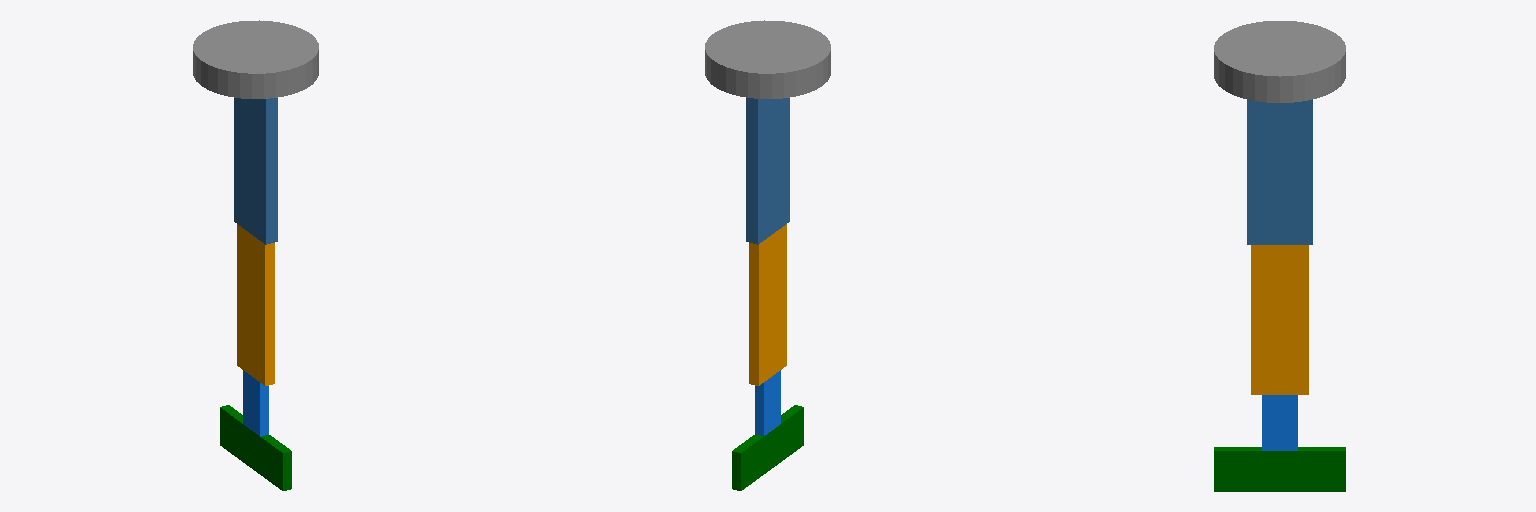
robot.urdf — quadruped_leg:
<?xml version="1.0" encoding="utf-8"?>
<!--
  Quadruped Single Leg URDF (1:5 scale from reference drawing)
  Generated by build123d-cad skill for PyBullet simulation.

  Reference mass/inertia (original scale):
    femur:  m=1.55kg,  I=80.9 kg*cm^2
    tibia:  m=0.157kg, I=13.1 kg*cm^2
    foot:   m=0.116kg, I=7.4  kg*cm^2

  At 1:5 scale, mass scales by (1/5)^3 = 1/125.
  Simplified box inertia used for simulation stability.
-->
<robot name="quadruped_leg">

  <!-- ===== Links ===== -->

  <!-- Hip mount: motor housing disc -->
  <link name="hip_mount">
    <visual>
      <geometry>
        <cylinder radius="0.018" length="0.008"/>
      </geometry>
      <material name="gray">
        <color rgba="0.6 0.6 0.6 1"/>
      </material>
    </visual>
    <collision>
      <geometry>
        <cylinder radius="0.018" length="0.008"/>
      </geometry>
    </collision>
    <inertial>
      <mass value="0.05"/>
      <inertia ixx="4.5e-6" ixy="0" ixz="0" iyy="4.5e-6" iyz="0" izz="8.1e-6"/>
    </inertial>
  </link>

  <!-- Femur: upper leg plate (50x18x4mm) -->
  <link name="femur">
    <visual>
      <origin xyz="0 0 -0.025" rpy="0 0 0"/>
      <geometry>
        <box size="0.004 0.018 0.050"/>
      </geometry>
      <material name="steelblue">
        <color rgba="0.27 0.51 0.71 1"/>
      </material>
    </visual>
    <collision>
      <origin xyz="0 0 -0.025" rpy="0 0 0"/>
      <geometry>
        <box size="0.004 0.018 0.050"/>
      </geometry>
    </collision>
    <inertial>
      <origin xyz="0 0 -0.025"/>
      <mass value="0.012"/>
      <inertia ixx="2.6e-6" ixy="0" ixz="0" iyy="2.5e-6" iyz="0" izz="2.7e-7"/>
    </inertial>
  </link>

  <!-- Tibia: lower leg plate (45x16x3mm) -->
  <link name="tibia">
    <visual>
      <origin xyz="0 0 -0.0225" rpy="0 0 0"/>
      <geometry>
        <box size="0.003 0.016 0.045"/>
      </geometry>
      <material name="orange">
        <color rgba="1.0 0.65 0.0 1"/>
      </material>
    </visual>
    <collision>
      <origin xyz="0 0 -0.0225" rpy="0 0 0"/>
      <geometry>
        <box size="0.003 0.016 0.045"/>
      </geometry>
    </collision>
    <inertial>
      <origin xyz="0 0 -0.0225"/>
      <mass value="0.005"/>
      <inertia ixx="8.6e-7" ixy="0" ixz="0" iyy="8.4e-7" iyz="0" izz="1.1e-7"/>
    </inertial>
  </link>

  <!-- Metatarsus: foot bone plate (17x10x3mm) -->
  <link name="metatarsus">
    <visual>
      <origin xyz="0 0 -0.0085" rpy="0 0 0"/>
      <geometry>
        <box size="0.003 0.010 0.017"/>
      </geometry>
      <material name="dodgerblue">
        <color rgba="0.12 0.56 1.0 1"/>
      </material>
    </visual>
    <collision>
      <origin xyz="0 0 -0.0085" rpy="0 0 0"/>
      <geometry>
        <box size="0.003 0.010 0.017"/>
      </geometry>
    </collision>
    <inertial>
      <origin xyz="0 0 -0.0085"/>
      <mass value="0.001"/>
      <inertia ixx="2.5e-8" ixy="0" ixz="0" iyy="2.5e-8" iyz="0" izz="8.3e-9"/>
    </inertial>
  </link>

  <!-- Foot pad: wide plate (36x12x3mm) -->
  <link name="foot_pad">
    <visual>
      <origin xyz="0 0 -0.006" rpy="0 0 0"/>
      <geometry>
        <box size="0.003 0.036 0.012"/>
      </geometry>
      <material name="green">
        <color rgba="0.0 0.5 0.0 1"/>
      </material>
    </visual>
    <collision>
      <origin xyz="0 0 -0.006" rpy="0 0 0"/>
      <geometry>
        <box size="0.003 0.036 0.012"/>
      </geometry>
    </collision>
    <inertial>
      <origin xyz="0 0 -0.006"/>
      <mass value="0.003"/>
      <inertia ixx="9.3e-7" ixy="0" ixz="0" iyy="3.4e-8" iyz="0" izz="9.0e-7"/>
    </inertial>
  </link>

  <!-- ===== Joints ===== -->

  <!-- Hip joint: hip_mount -> femur (Y-axis rotation) -->
  <joint name="hip_joint" type="revolute">
    <parent link="hip_mount"/>
    <child link="femur"/>
    <origin xyz="0 0 -0.004" rpy="0 0 0"/>
    <axis xyz="0 1 0"/>
    <limit lower="-0.7854" upper="0.7854" effort="10" velocity="5"/>
    <dynamics damping="0.01" friction="0.005"/>
  </joint>

  <!-- Knee joint: femur -> tibia (Y-axis rotation) -->
  <joint name="knee_joint" type="revolute">
    <parent link="femur"/>
    <child link="tibia"/>
    <origin xyz="0 0 -0.050" rpy="0 0 0"/>
    <axis xyz="0 1 0"/>
    <limit lower="-1.5708" upper="0" effort="10" velocity="5"/>
    <dynamics damping="0.01" friction="0.005"/>
  </joint>

  <!-- Ankle joint: tibia -> metatarsus (Y-axis rotation) -->
  <joint name="ankle_joint" type="revolute">
    <parent link="tibia"/>
    <child link="metatarsus"/>
    <origin xyz="0 0 -0.045" rpy="0 0 0"/>
    <axis xyz="0 1 0"/>
    <limit lower="-0.5236" upper="0.5236" effort="5" velocity="5"/>
    <dynamics damping="0.005" friction="0.002"/>
  </joint>

  <!-- Foot joint: metatarsus -> foot_pad (fixed) -->
  <joint name="foot_joint" type="fixed">
    <parent link="metatarsus"/>
    <child link="foot_pad"/>
    <origin xyz="0 0 -0.017" rpy="0 0 0"/>
  </joint>

</robot>

--- Facts derived from the render (not from the file) ---
3 views of the same robot in one strip: view 1: azimuth 30°, elevation 25°; view 2: azimuth 150°, elevation 25°; view 3: azimuth 270°, elevation 25° (orthographic).
Model quadruped_leg with 5 links and 4 joints (3 revolute, 1 fixed), rooted at hip_mount, posed all joints at 0.
Visible links, largest first — view 1: hip_mount, femur, tibia, foot_pad, metatarsus; view 2: hip_mount, femur, tibia, foot_pad, metatarsus; view 3: femur, hip_mount, tibia, foot_pad, metatarsus.
Boxes of the visible links, left/top/right/bottom form: hip_mount: left=193, top=20, right=318, bottom=98; femur: left=234, top=98, right=277, bottom=244; tibia: left=237, top=224, right=274, bottom=385; foot_pad: left=220, top=405, right=291, bottom=490; metatarsus: left=243, top=370, right=268, bottom=436; hip_mount: left=705, top=20, right=830, bottom=98; femur: left=746, top=98, right=789, bottom=244; tibia: left=749, top=224, right=786, bottom=385; foot_pad: left=732, top=405, right=803, bottom=490; metatarsus: left=755, top=370, right=780, bottom=436; femur: left=1247, top=99, right=1312, bottom=244; hip_mount: left=1214, top=21, right=1345, bottom=102; tibia: left=1251, top=245, right=1308, bottom=394; foot_pad: left=1214, top=447, right=1345, bottom=491; metatarsus: left=1262, top=395, right=1297, bottom=450.
Bounding box of the posed robot: 0.036 × 0.036 × 0.132 m (x, y, z).
Geometry: primitives only (box / cylinder / sphere), no mesh files.
